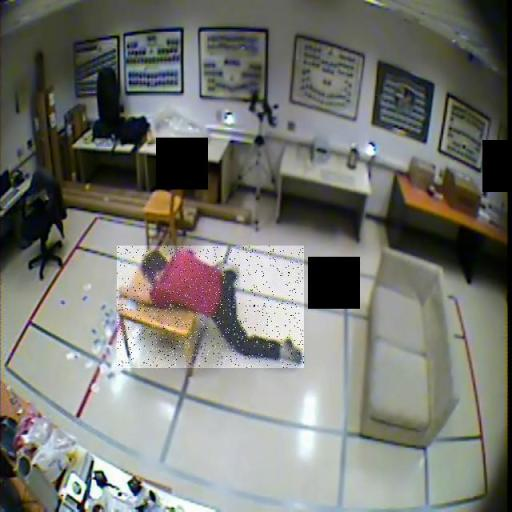Fall: (117, 246, 304, 368)
